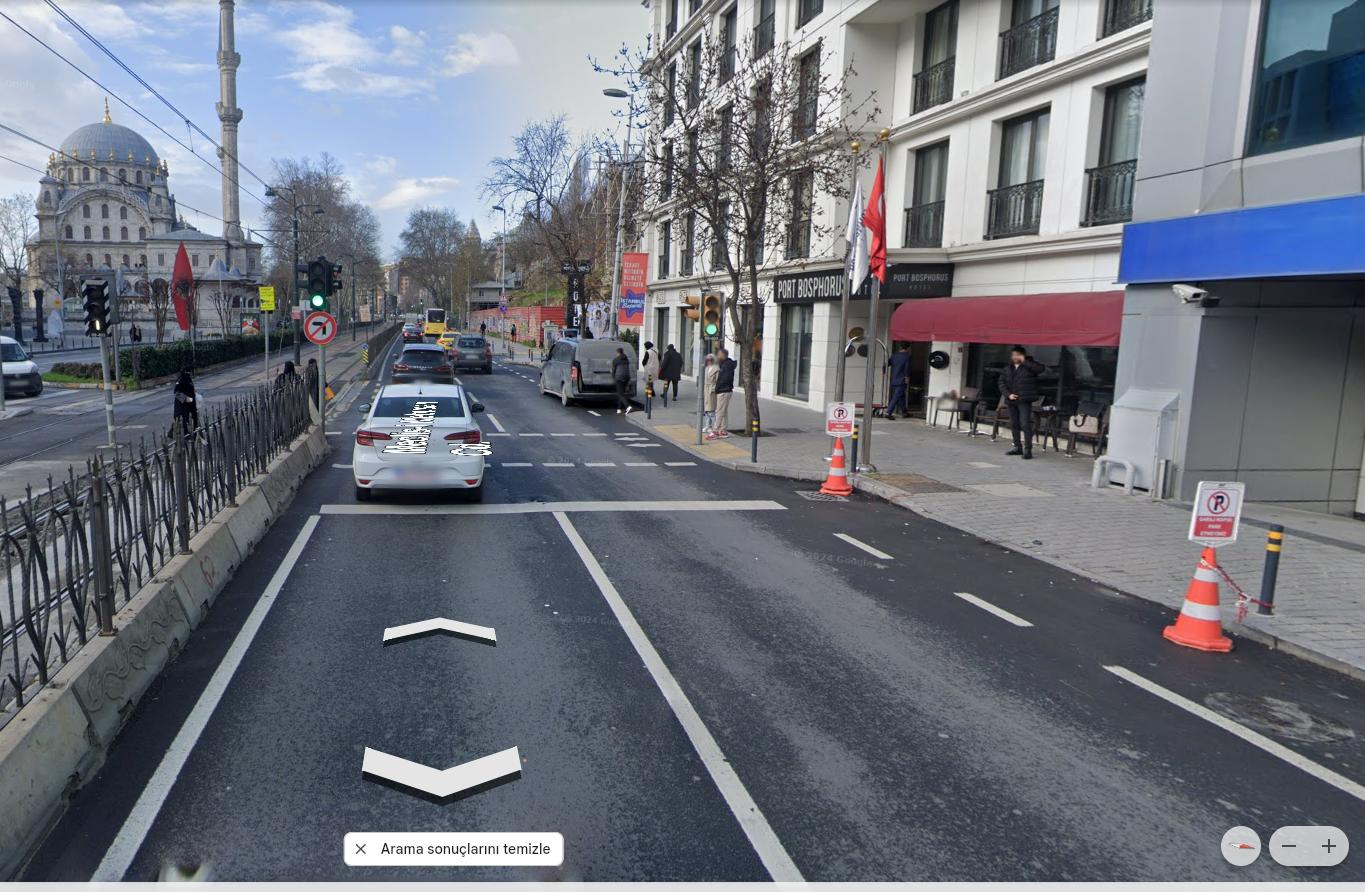greenlight: (700, 289, 723, 336), (310, 259, 326, 309)
leftturnsareforbidden: (303, 312, 337, 345)
